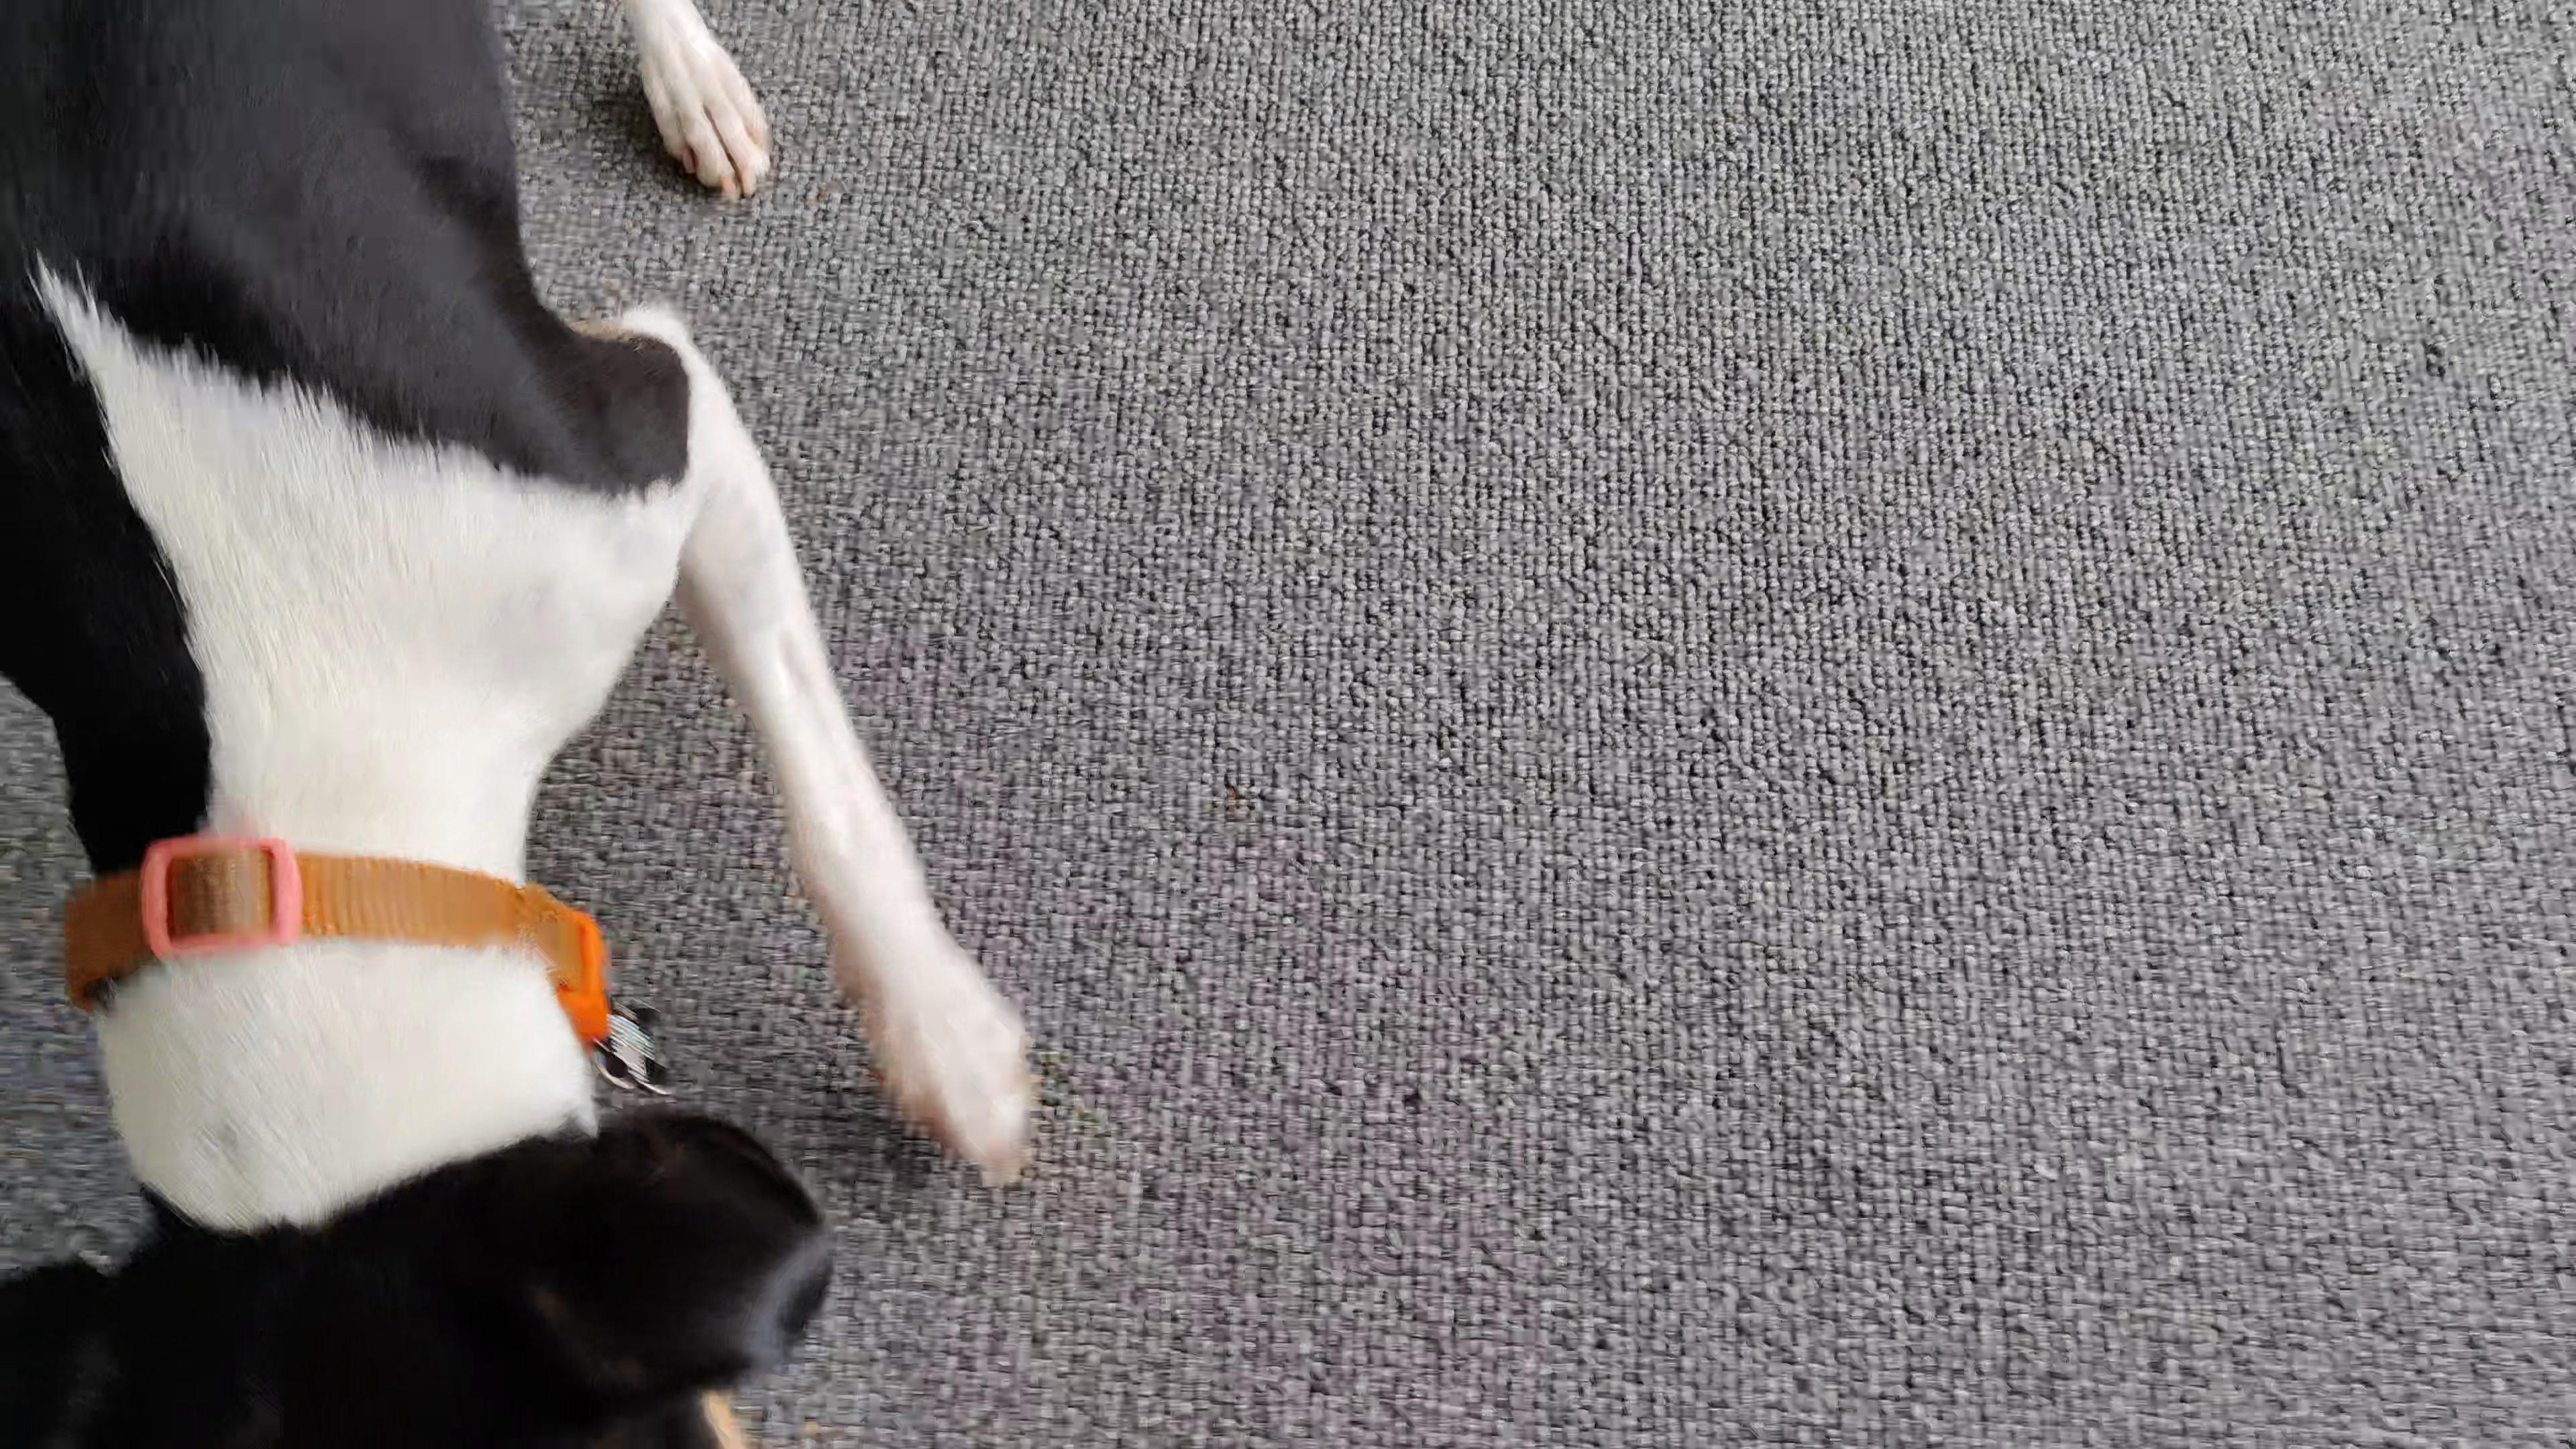Dog: (0, 0, 1072, 1449)
